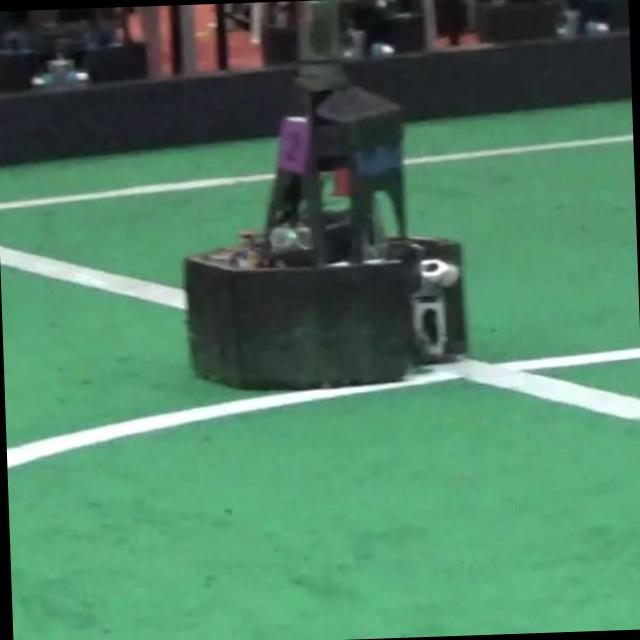robot: (183, 0, 466, 389)
